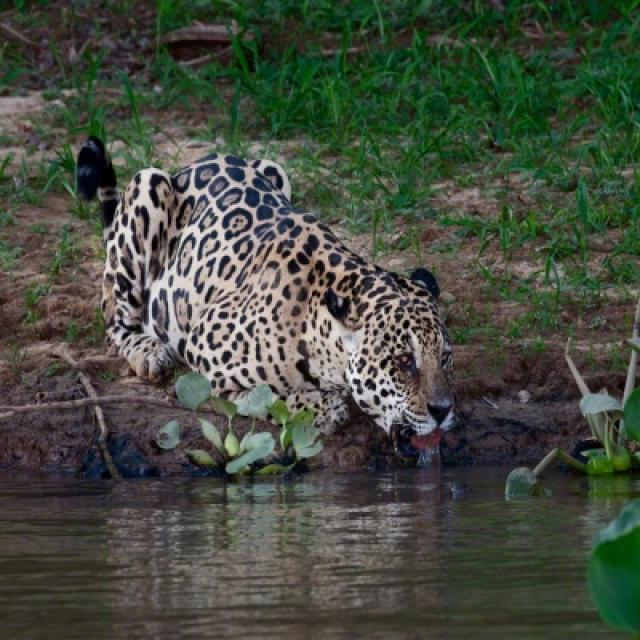Jaguar: (75, 138, 454, 445)
